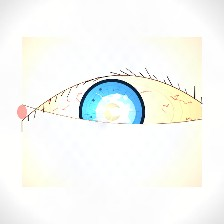corneal_ulcer: (95, 96, 137, 129)
